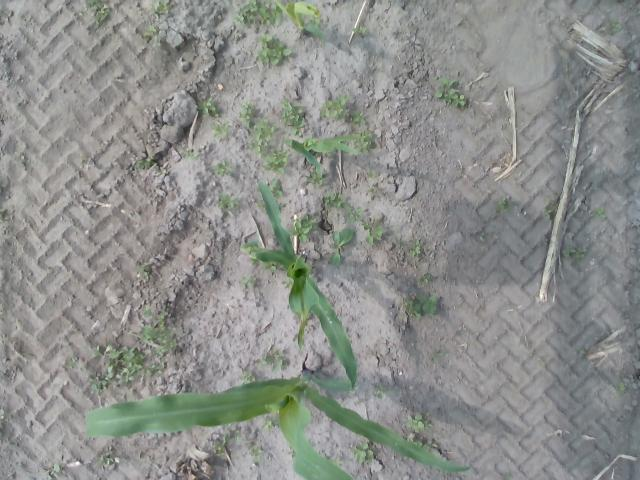Maize: (83, 366, 470, 480), (240, 180, 356, 387), (284, 134, 358, 176), (277, 1, 326, 40)
Weeds: (59, 342, 166, 394), (138, 307, 176, 352), (234, 0, 284, 29), (256, 33, 293, 65), (281, 100, 308, 140), (248, 115, 276, 153), (326, 227, 354, 264), (404, 292, 440, 319), (210, 430, 244, 458), (434, 77, 466, 106), (258, 346, 290, 372), (290, 214, 319, 242), (320, 92, 349, 118), (264, 148, 292, 174), (84, 0, 110, 26), (354, 128, 376, 158), (350, 440, 375, 466), (368, 379, 397, 401), (362, 216, 384, 244), (406, 411, 434, 433), (236, 98, 254, 128), (194, 97, 220, 117), (210, 119, 234, 140), (100, 449, 120, 472), (217, 192, 240, 212), (137, 262, 156, 284), (324, 194, 349, 210), (541, 198, 559, 220), (210, 160, 233, 177), (143, 24, 162, 43), (150, 0, 172, 16), (349, 108, 368, 126), (408, 236, 423, 258), (260, 416, 278, 434), (428, 346, 448, 362), (496, 197, 514, 214), (44, 463, 62, 480), (268, 178, 283, 198), (239, 274, 256, 290), (308, 169, 324, 186), (588, 206, 607, 220), (260, 262, 282, 274), (178, 146, 200, 158), (237, 369, 255, 383), (366, 183, 379, 202), (562, 248, 586, 258), (348, 206, 362, 222), (614, 380, 626, 398), (134, 158, 152, 170), (250, 448, 264, 462), (392, 235, 404, 250), (406, 436, 423, 446), (419, 272, 432, 285), (352, 25, 368, 35), (572, 345, 586, 356), (78, 150, 88, 163), (310, 15, 320, 27), (330, 458, 344, 466), (367, 168, 378, 178), (538, 360, 548, 369), (0, 209, 6, 224), (0, 184, 7, 194), (424, 439, 431, 449), (479, 232, 485, 243), (0, 410, 6, 420), (155, 166, 165, 171), (20, 162, 28, 166)
